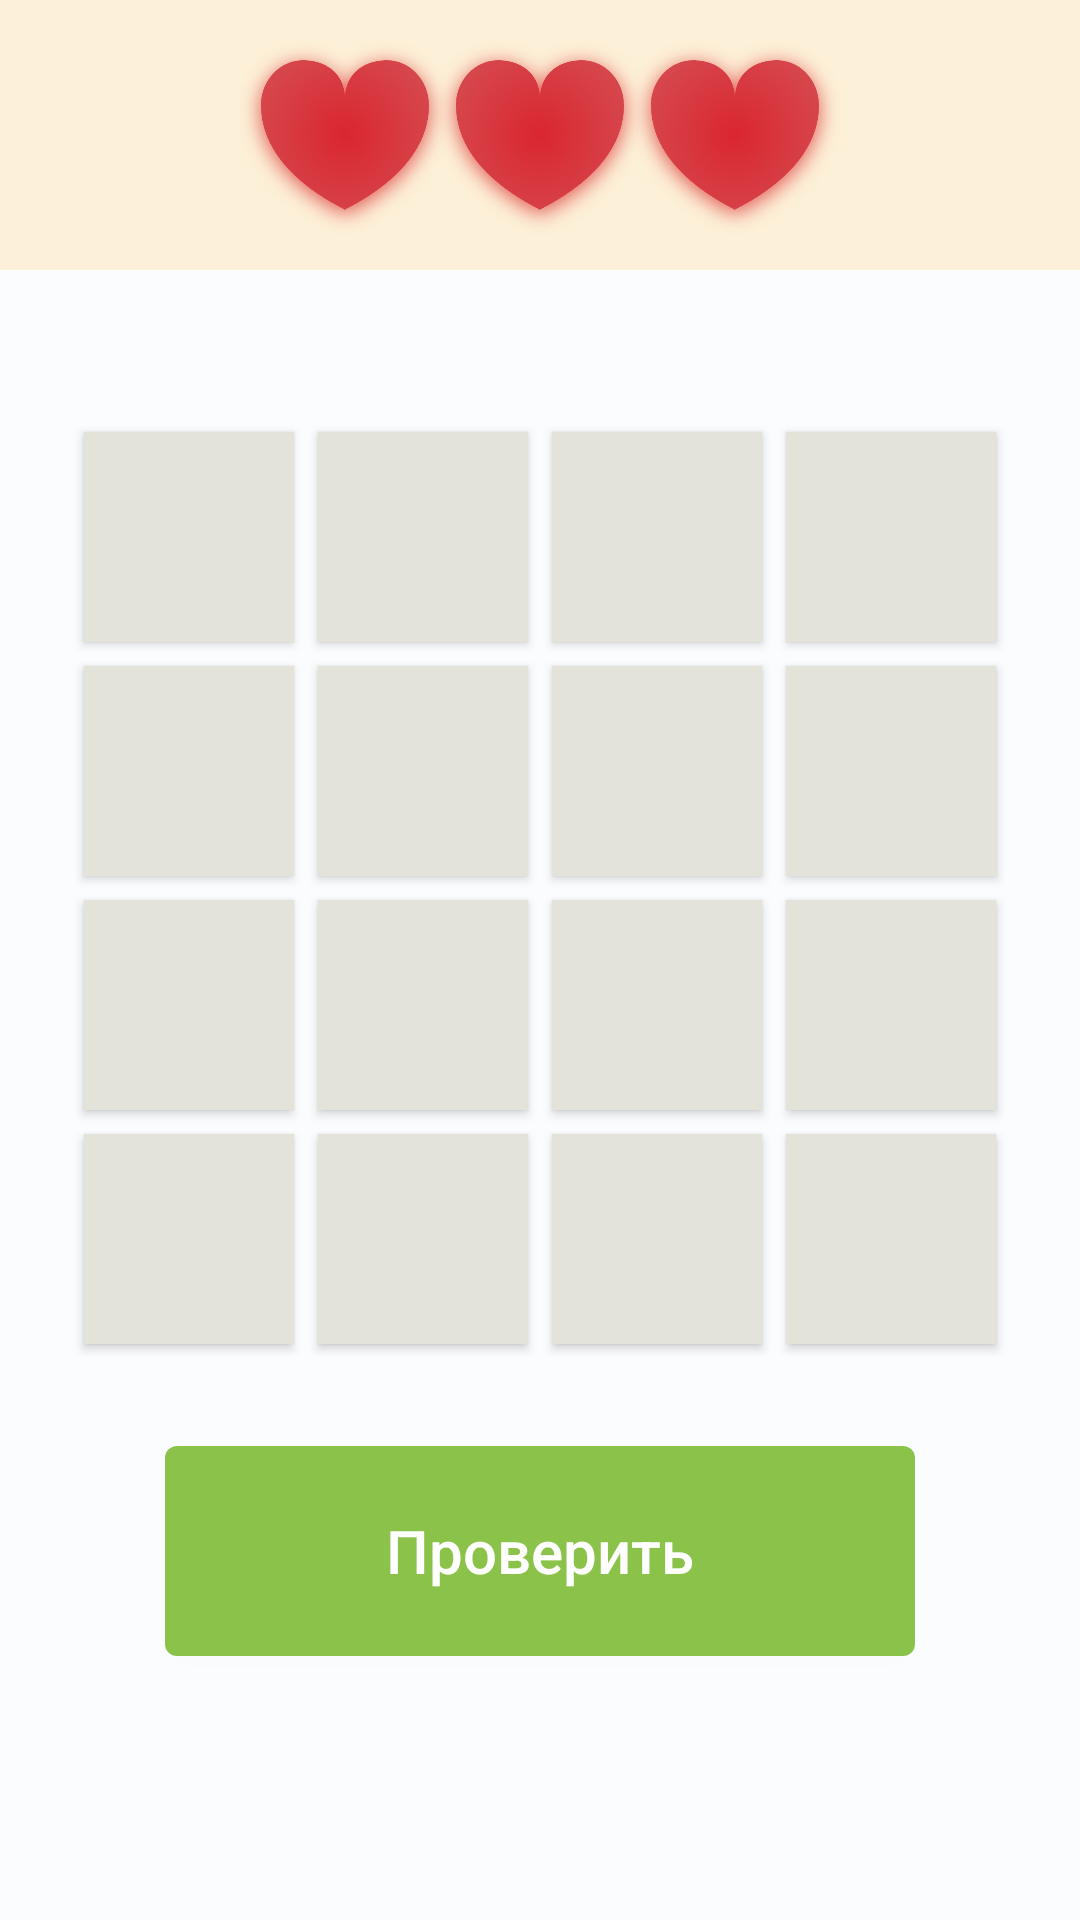

Icon click points for this 1080px x 1920px phone screenshot, format (x=x, y=y):
heart up: (x=346, y=138), (x=539, y=138), (x=733, y=138)
